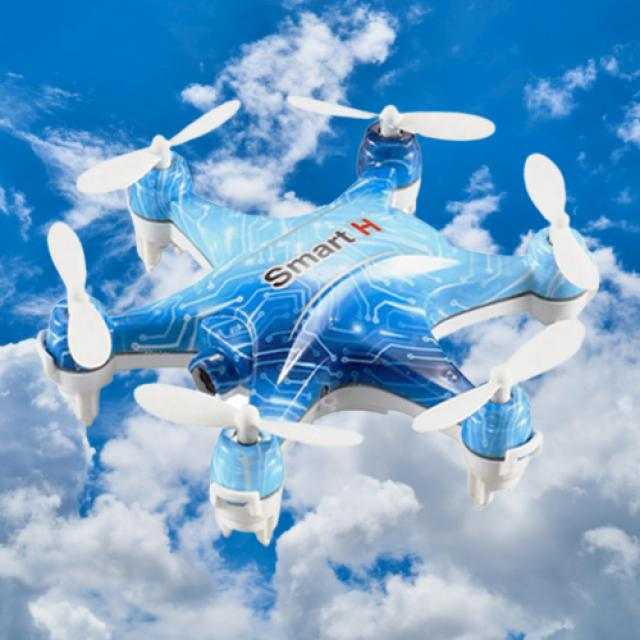drones: (40, 82, 612, 536)
